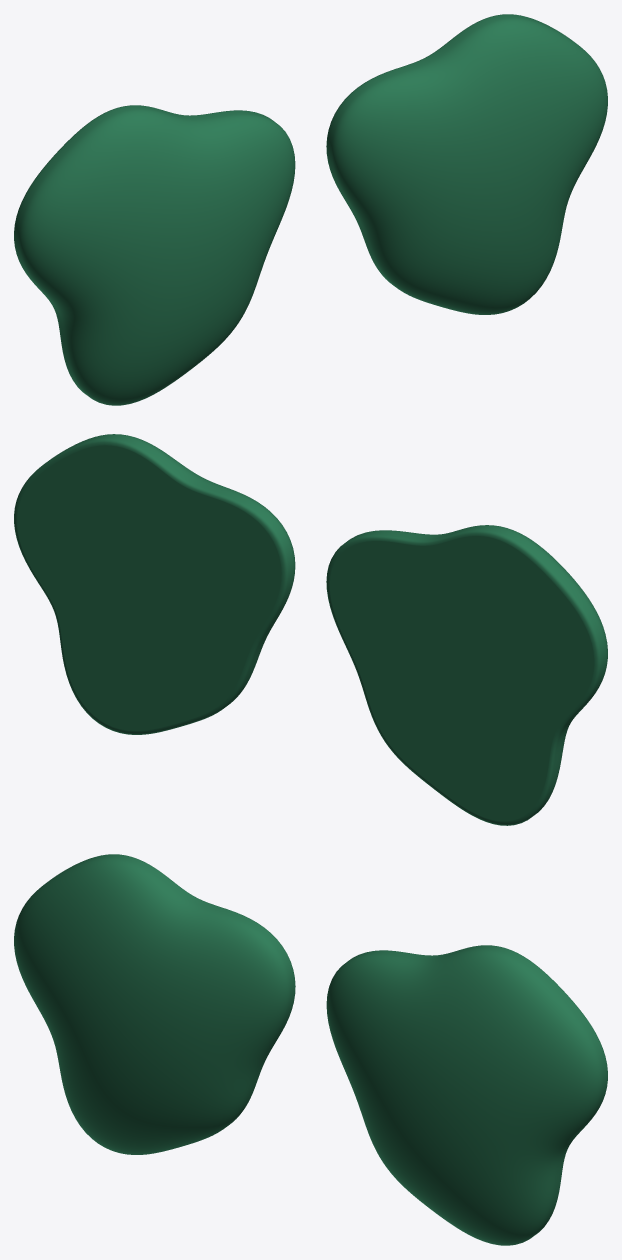
Rendered from matched-pair-v1.glb.
The picture shows the model from 3 angles, top to bottom: view 1: azimuth 30°, elevation 25°; view 2: azimuth 150°, elevation 25°; view 3: azimuth 330°, elevation 25°; orthographic projection.
Visible parts, largest first — view 1: Freeform Cabochon 18x17x4mm, Freeform Cabochon 18x17x4mm.001; view 2: Freeform Cabochon 18x17x4mm, Freeform Cabochon 18x17x4mm.001; view 3: Freeform Cabochon 18x17x4mm.001, Freeform Cabochon 18x17x4mm.
Part boxes in pixels (x1=…): Freeform Cabochon 18x17x4mm: x1=14, y1=105, x2=295, y2=405; Freeform Cabochon 18x17x4mm.001: x1=326, y1=14, x2=607, y2=314; Freeform Cabochon 18x17x4mm: x1=326, y1=525, x2=607, y2=825; Freeform Cabochon 18x17x4mm.001: x1=14, y1=434, x2=295, y2=734; Freeform Cabochon 18x17x4mm.001: x1=326, y1=945, x2=607, y2=1245; Freeform Cabochon 18x17x4mm: x1=14, y1=854, x2=295, y2=1154.
Bounding box in the file's own units: 0.0394 × 0.0187 × 0.00398.
